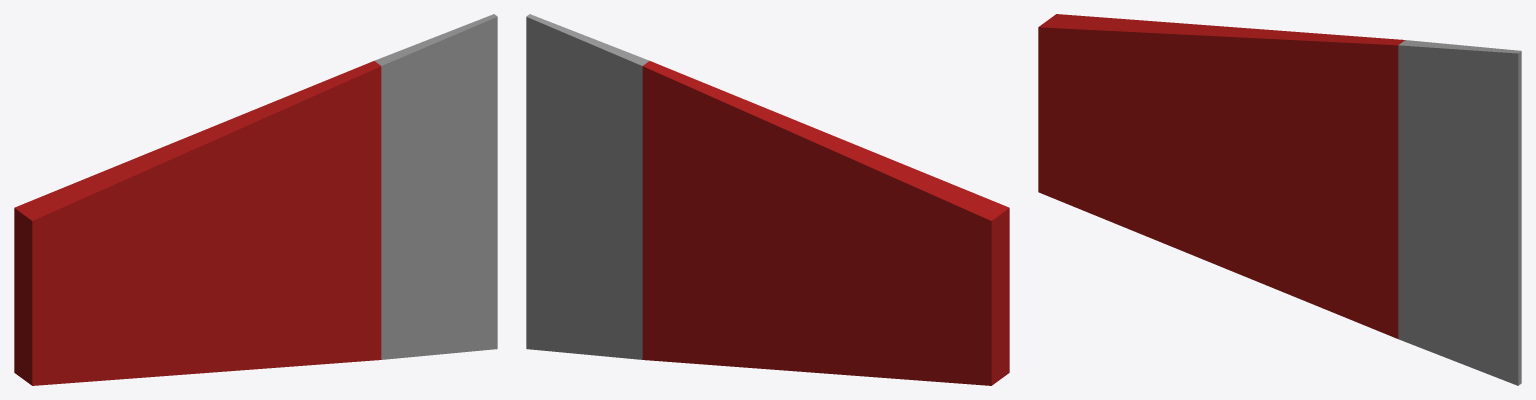
File: Axe Head.fbx
3 views of the same model, side by side, from view 1: azimuth 30°, elevation 25°; view 2: azimuth 150°, elevation 25°; view 3: azimuth 330°, elevation 25° (orthographic).
Visible parts, largest first — view 1: Axe Head; view 2: Axe Head; view 3: Axe Head.
Boxes of the visible parts, left/top/right/bottom form: Axe Head: left=14, top=14, right=497, bottom=385; Axe Head: left=526, top=14, right=1009, bottom=385; Axe Head: left=1038, top=14, right=1521, bottom=385.
Bounding box in the file's own units: 300 × 202 × 20.
